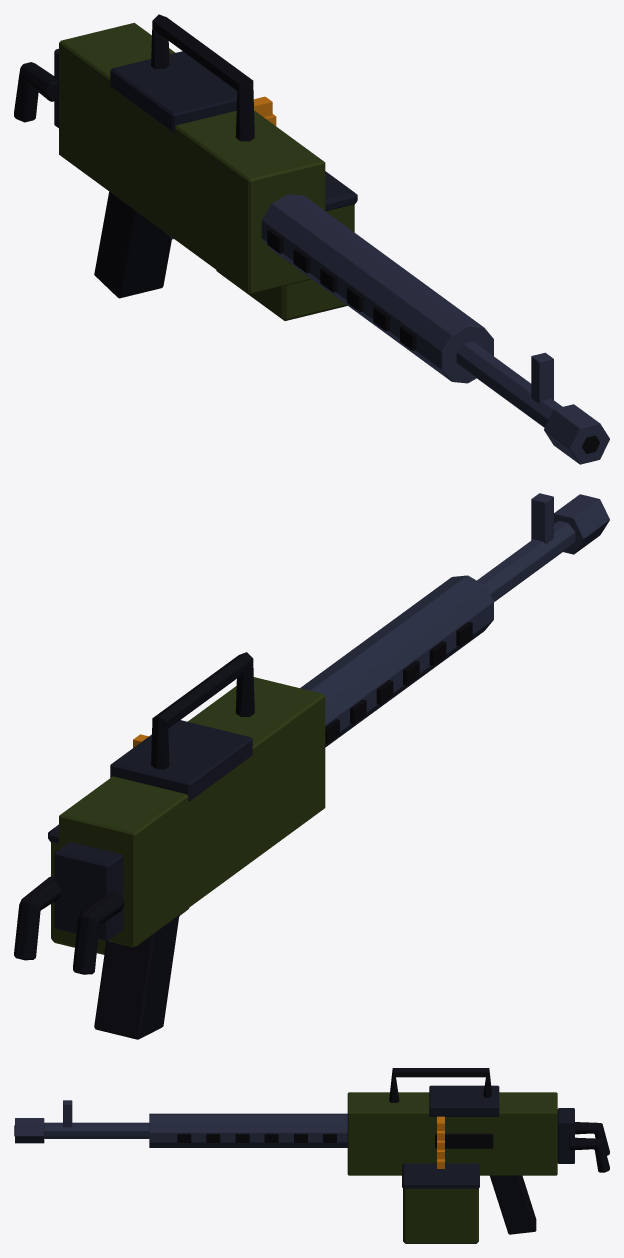
Rendered from myw_heavymachinegun.obj.
3 renders of one model, top to bottom at view 1: azimuth 30°, elevation 25°; view 2: azimuth 150°, elevation 25°; view 3: azimuth 270°, elevation 25°, orthographic. The views are drawn at different scales.
Parts seen in each view (by area): view 1: Body, Barrel, Handle, AmmoBox; view 2: Body, Barrel, Handle, AmmoBox; view 3: Body, Barrel, AmmoBox, Handle, Belt.
Part boxes in pixels (left/top/right/bottom): Body: left=14, top=22, right=325, bottom=298; Barrel: left=261, top=194, right=609, bottom=464; Handle: left=151, top=14, right=254, bottom=141; AmmoBox: left=216, top=171, right=357, bottom=320; Body: left=14, top=677, right=325, bottom=1039; Barrel: left=300, top=493, right=609, bottom=747; Handle: left=151, top=652, right=254, bottom=769; AmmoBox: left=48, top=824, right=189, bottom=954; Body: left=347, top=1085, right=609, bottom=1234; Barrel: left=14, top=1100, right=347, bottom=1147; AmmoBox: left=402, top=1163, right=479, bottom=1243; Handle: left=389, top=1068, right=492, bottom=1102; Belt: left=437, top=1116, right=444, bottom=1168.
Bounding box in the file's own units: 0.88 × 1.52 × 5.11.
